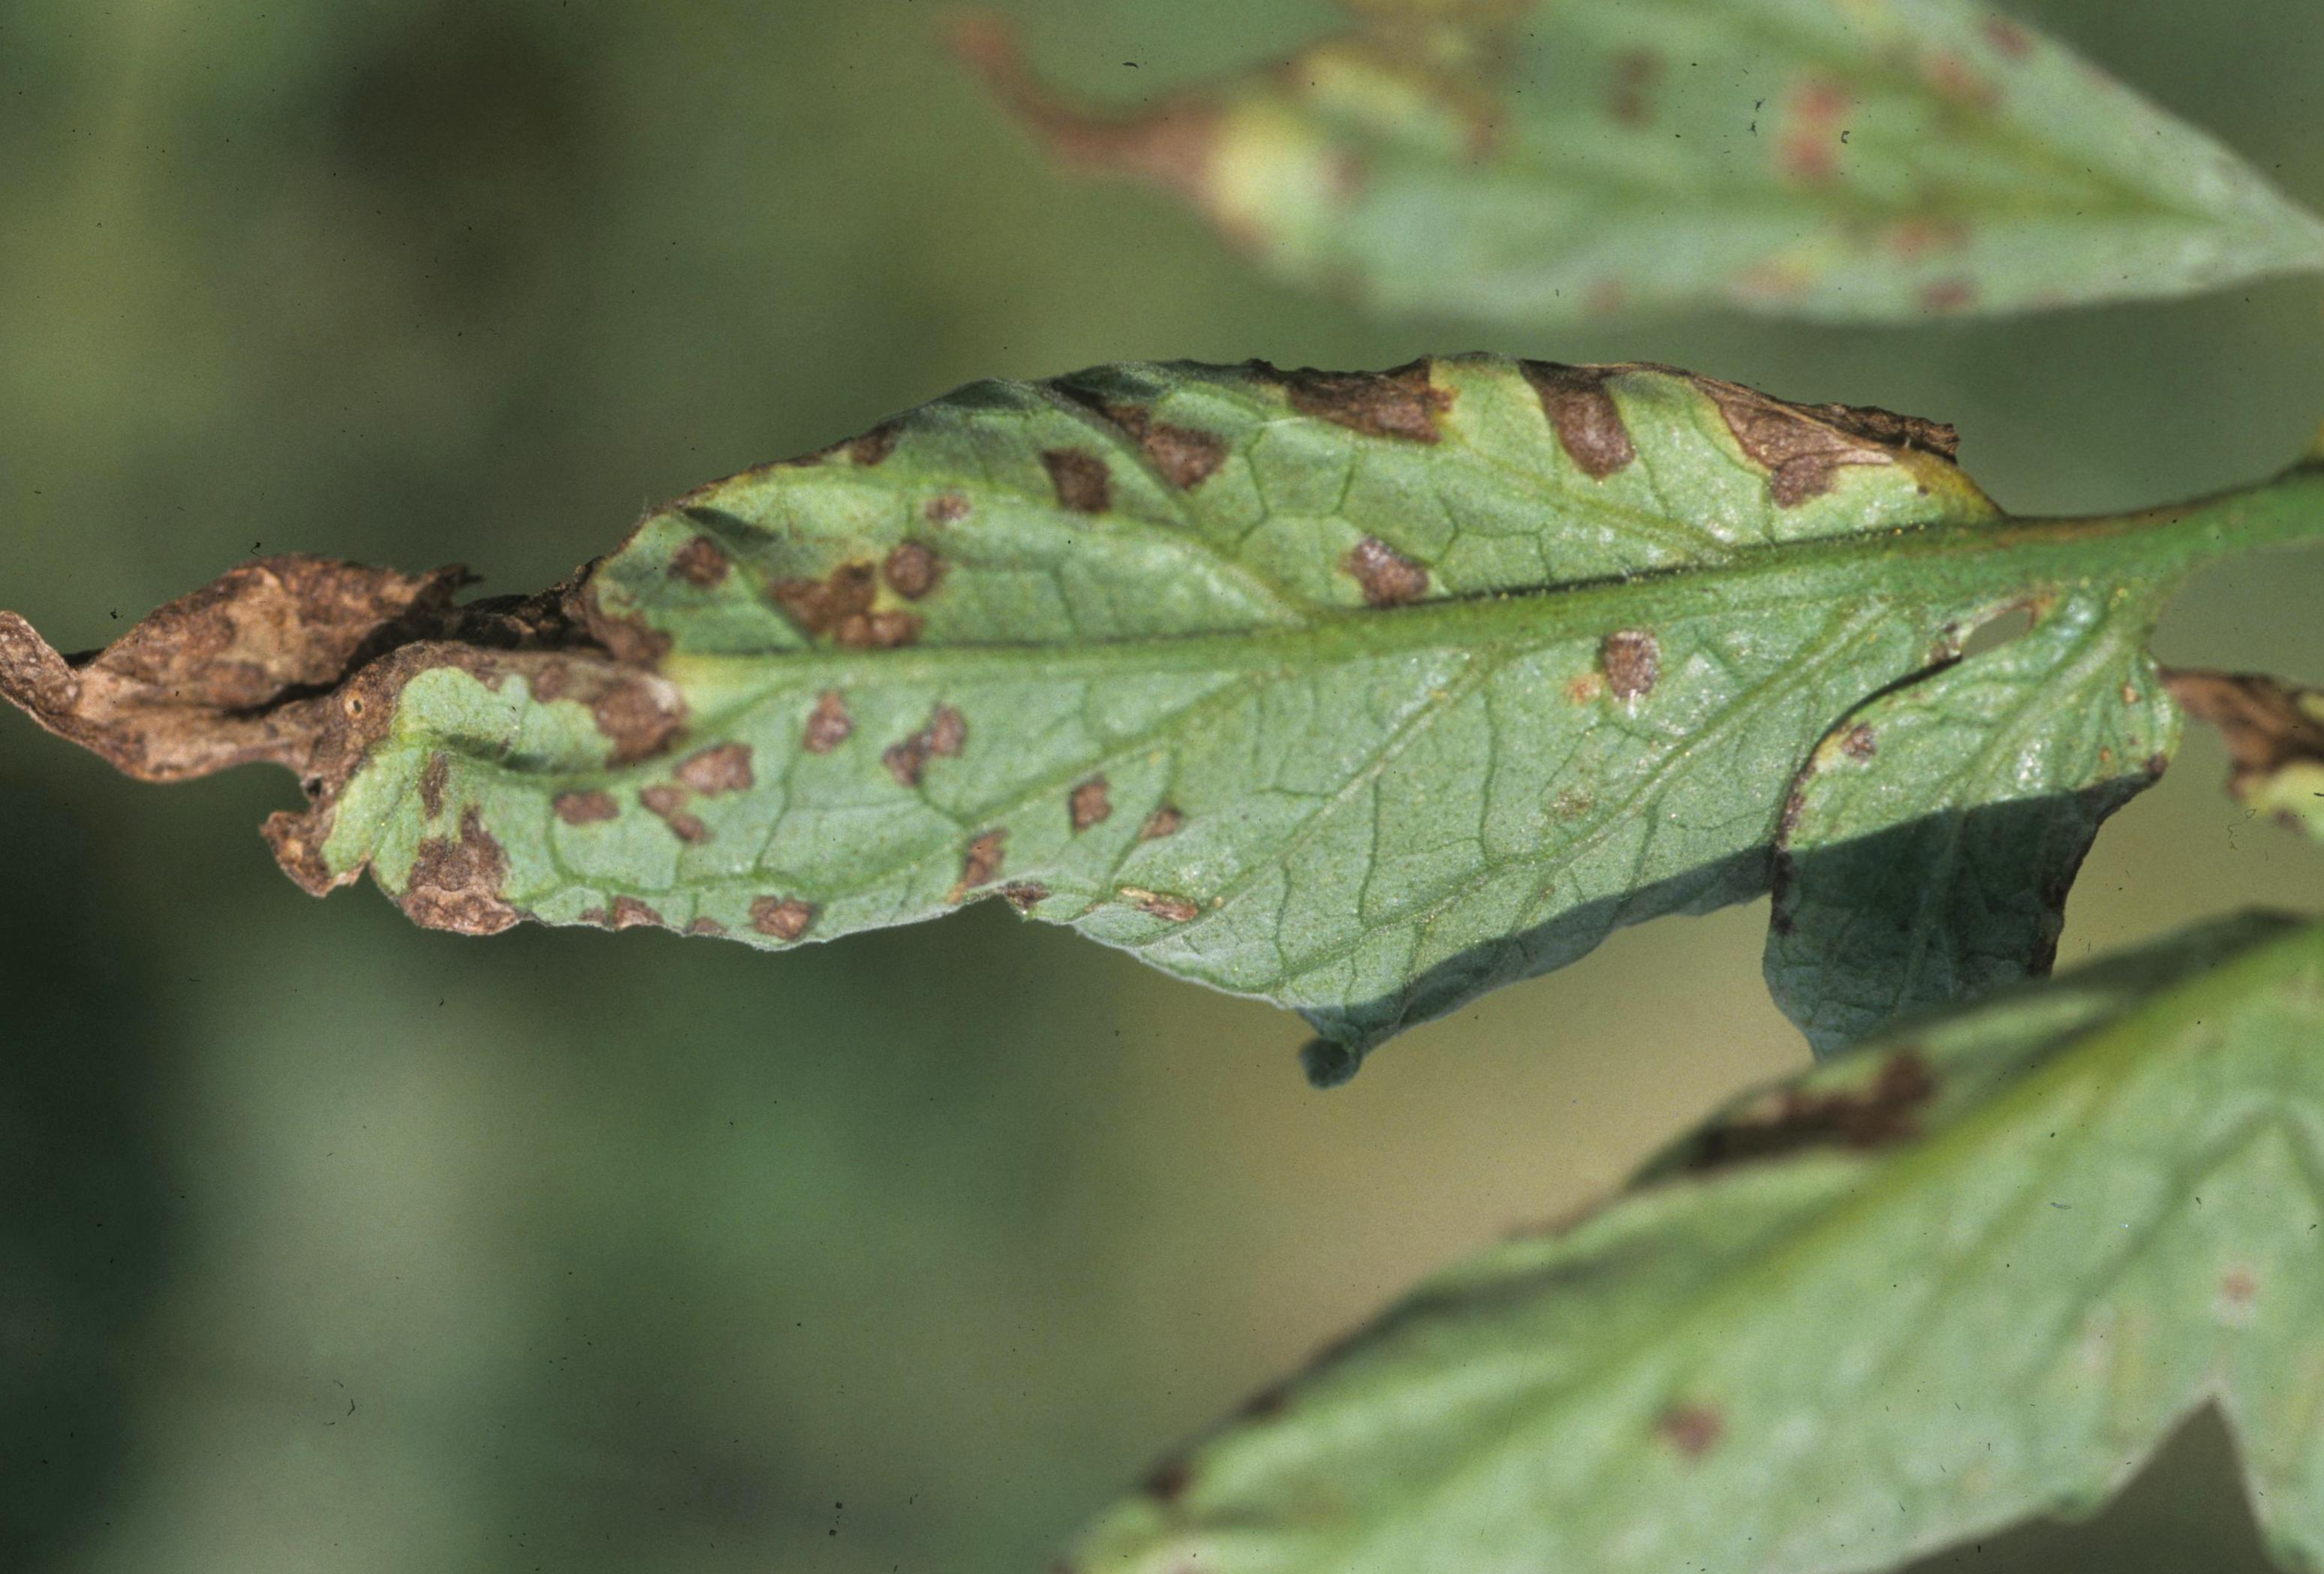Tomato leaf bacterial spot: (0, 0, 2244, 1331)
